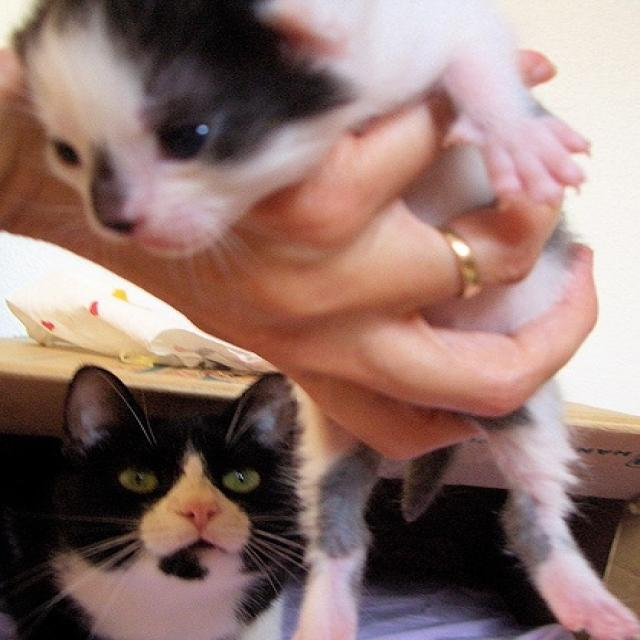cat: (7, 2, 638, 638), (0, 362, 300, 639)
